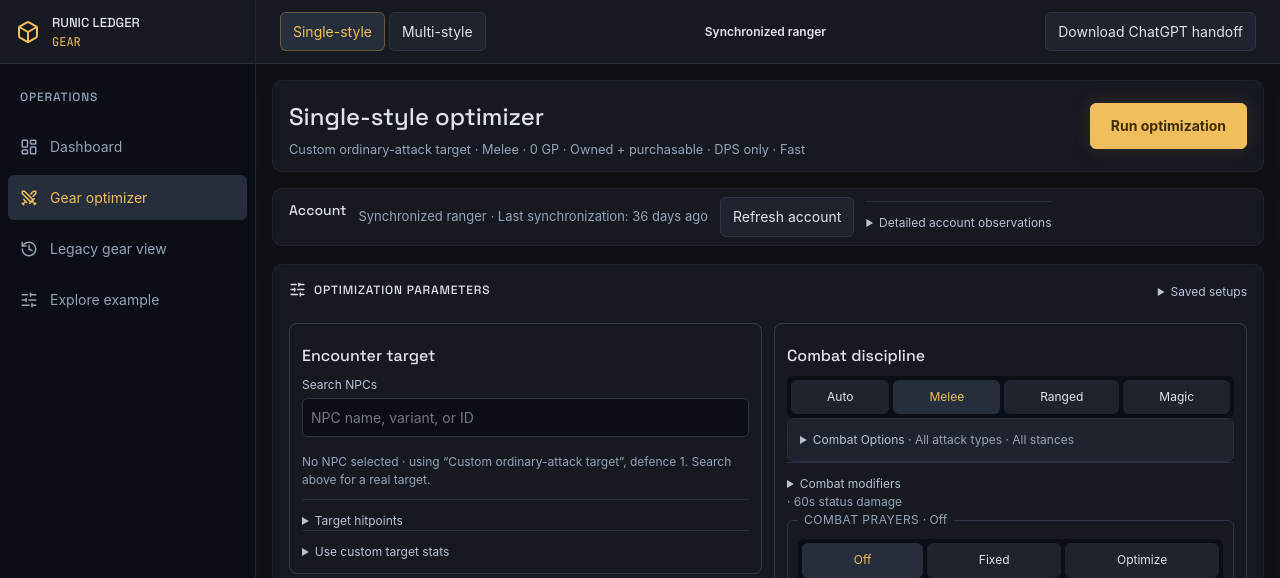
Scenario: marks equipment as owned instead of the ambiguous 'selected'
Click the button "Run optimization" at (1168, 126), box [1090,103,1247,149]
(page scrolled)
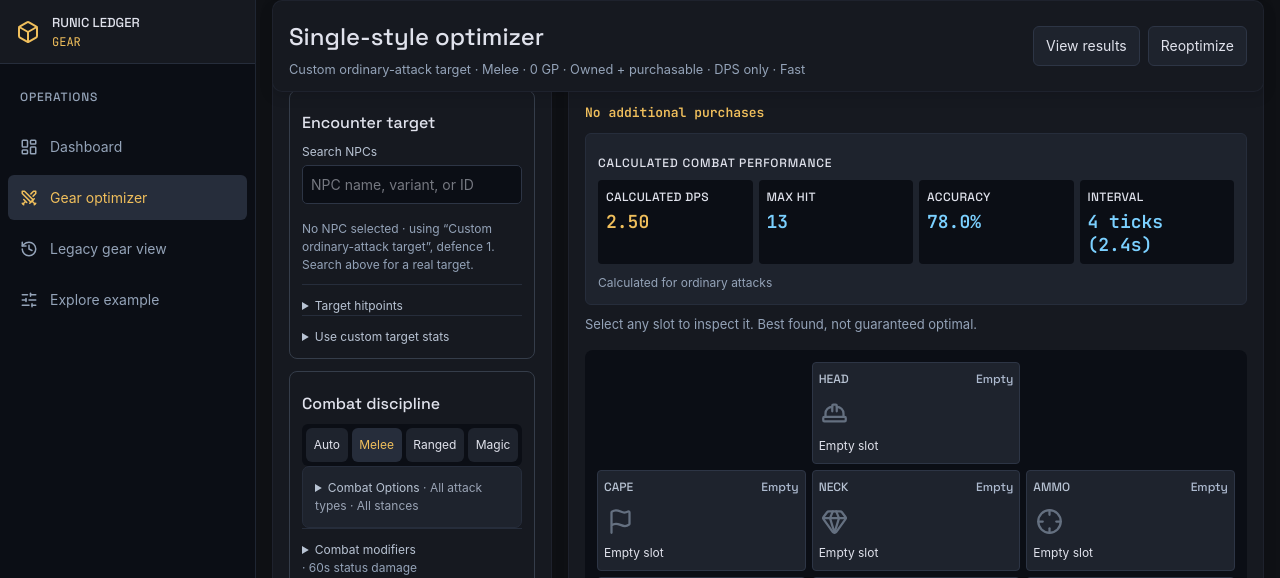
Result: the text "No additional purchases" is shown at [585,104,764,121]
Result: the button "head Empty Empty slot" is shown at [812,362,1020,464]
